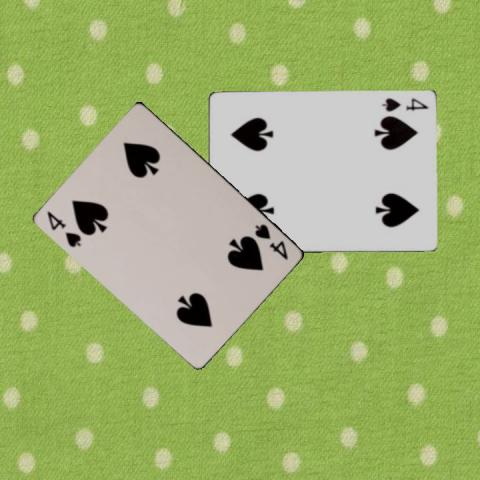4s: (45, 207, 83, 249), (252, 221, 291, 261), (379, 96, 429, 114)
